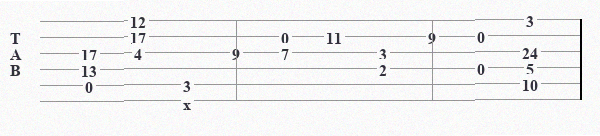0: (85, 77, 97, 92), (281, 29, 293, 44), (477, 29, 489, 44), (477, 61, 489, 76)
10: (522, 77, 542, 92)
11: (326, 29, 346, 44)
12: (130, 13, 150, 28)
13: (81, 61, 101, 76)
17: (81, 45, 101, 60), (130, 29, 150, 44)
2: (379, 61, 391, 76)
24: (522, 45, 542, 60)
3: (183, 77, 195, 92), (379, 45, 391, 60), (526, 13, 538, 28)
4: (134, 45, 146, 60)
5: (526, 61, 538, 76)
7: (281, 45, 293, 60)
9: (232, 45, 244, 60), (428, 29, 440, 44)
x: (183, 95, 195, 106)
